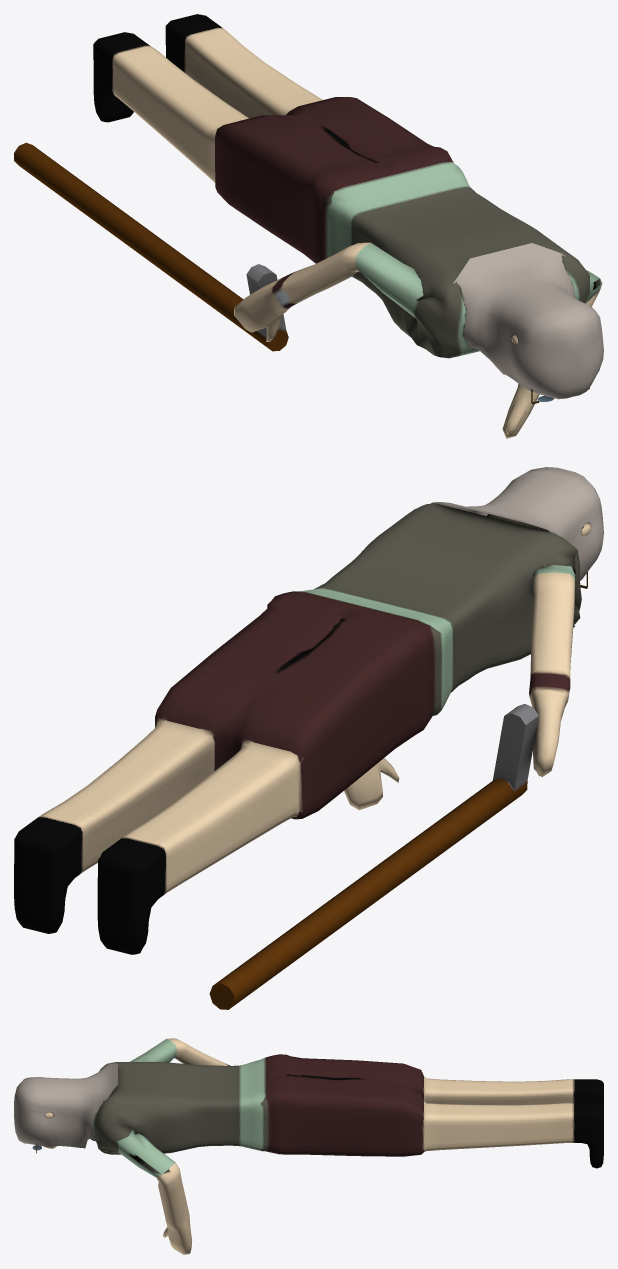
File: grandmother.obj
3 renders of one model, top to bottom at view 1: azimuth 30°, elevation 25°; view 2: azimuth 150°, elevation 25°; view 3: azimuth 270°, elevation 25°, orthographic. The views are drawn at different scales.
Parts seen in each view (by area): view 1: grandmother; view 2: grandmother; view 3: grandmother.
Boxes of the visible parts, x1=… form: grandmother: x1=14, y1=14, x2=603, y2=438; grandmother: x1=14, y1=467, x2=603, y2=1009; grandmother: x1=14, y1=1038, x2=603, y2=1254.
Size of the model in its own units: 40.39 by 30.77 by 102.
Materials: 1 (1 with a texture image).
